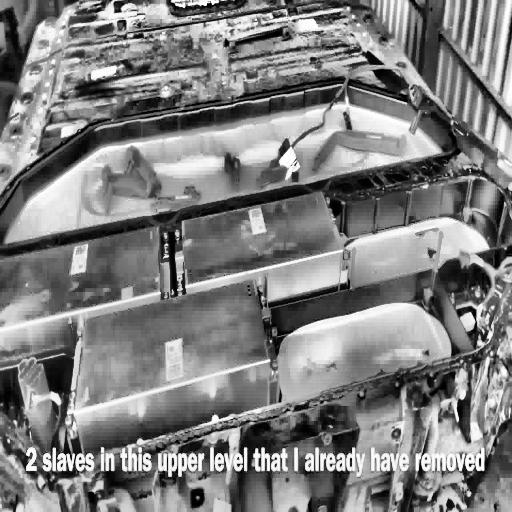battery_module: (74, 278, 270, 413), (1, 224, 161, 331), (182, 188, 346, 289)
high_volt_cable: (278, 58, 477, 162)
